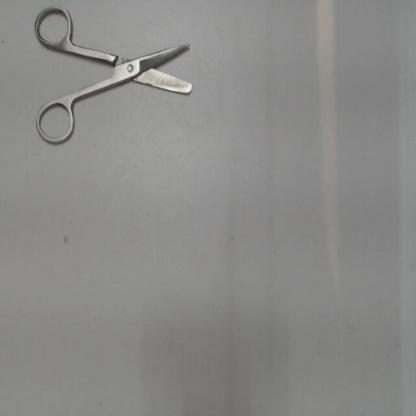Dressing Scissors: (29, 2, 204, 151)
